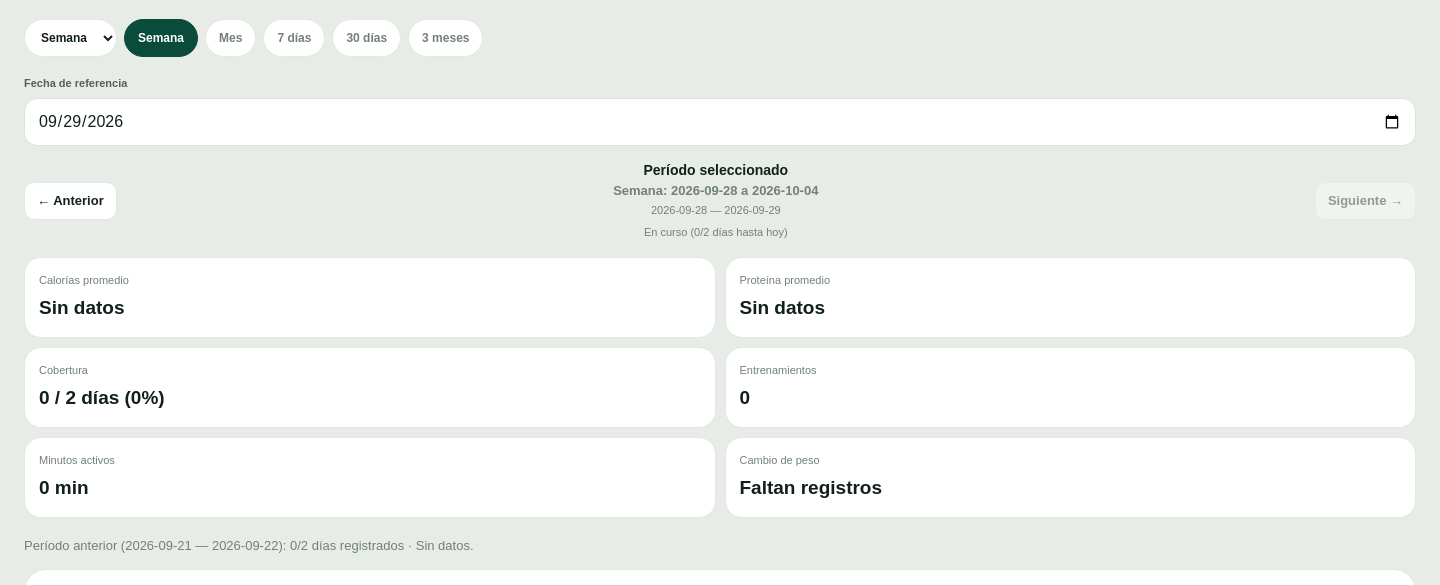
it: ReportsView › navigates to previous week when clicking ← Anterior
Click the button with aria-label "Período anterior" at (70, 201), box [24,182,117,220]
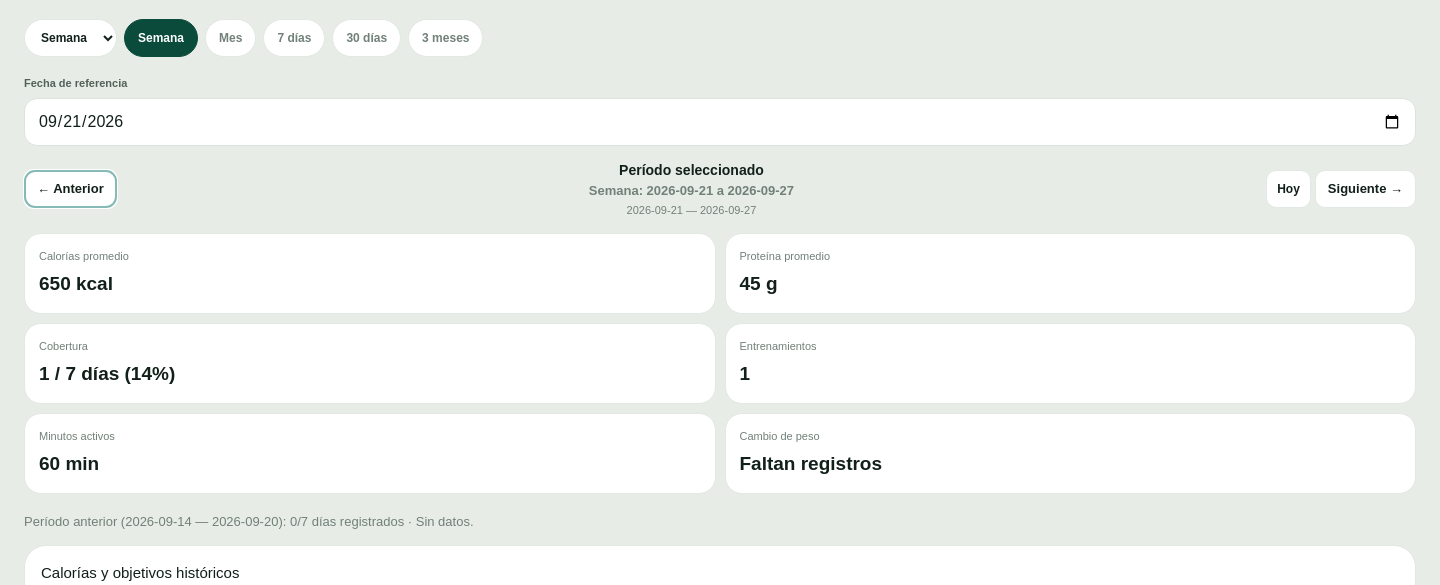
Expected: the button "Hoy" is shown, [1266,170,1311,208]
Now the button with aria-label "Período siguiente" is enabled, box [1315,170,1416,208]
